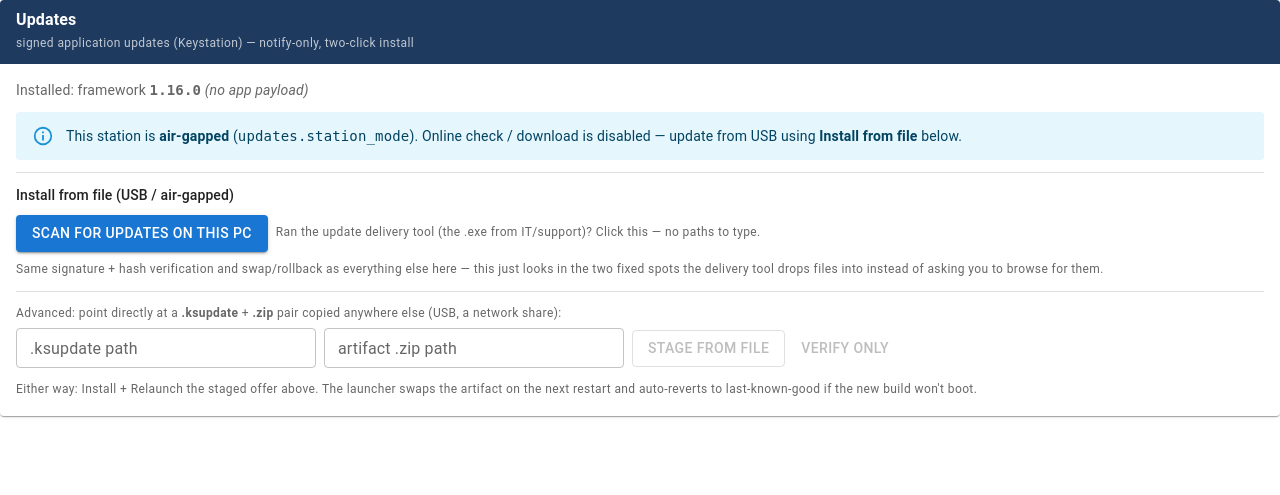
Test: UpdatesConfig › air_gapped: Scan for updates stages what it finds and shows a summary
Click the button "Scan for updates on this PC" at (142, 233), box [16,215,268,252]
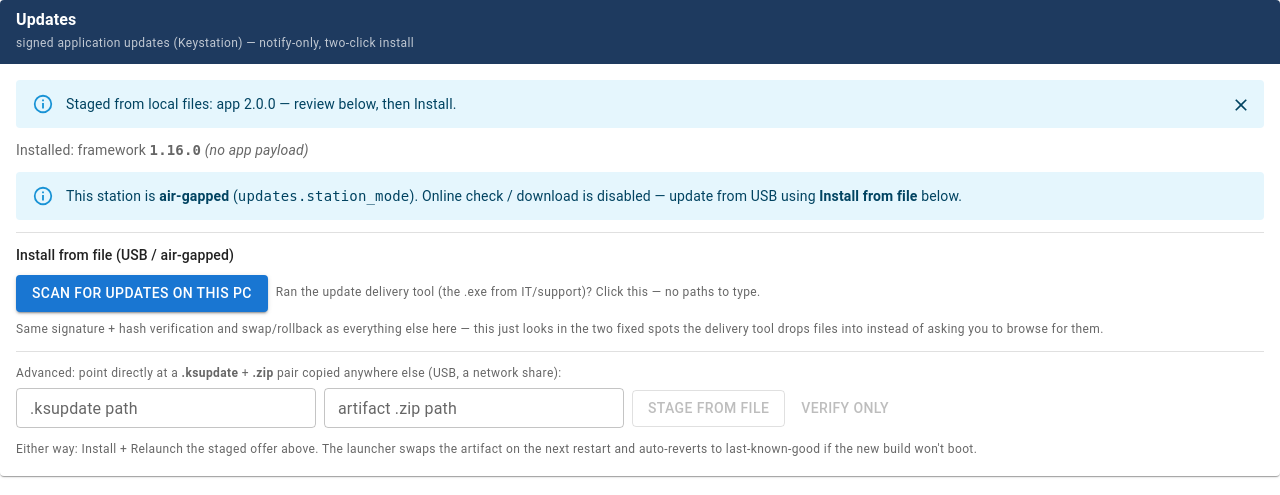
Expected: the text "Staged from local files: app 2.0.0" is shown, [66,96,456,112]
